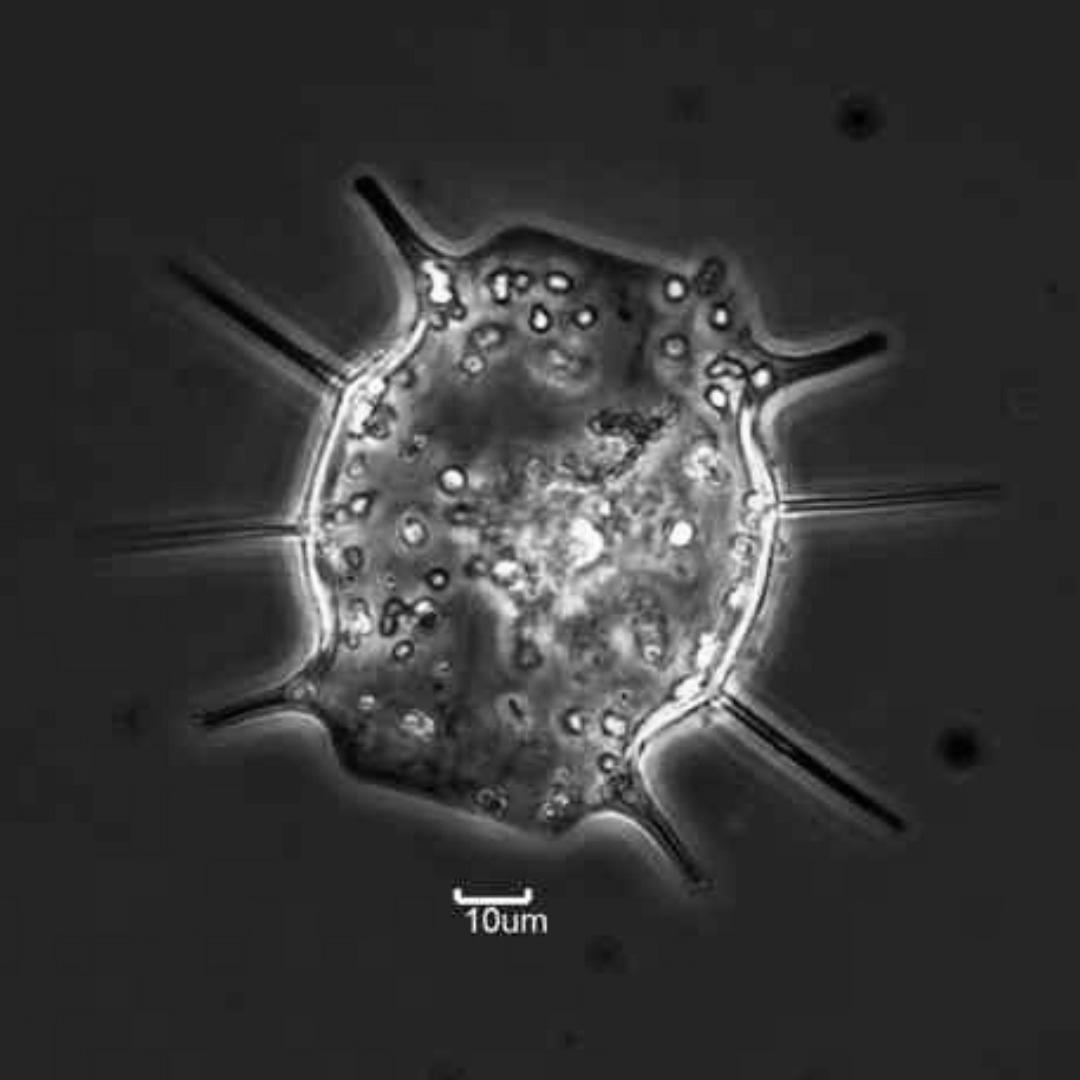odontella_mobiliensis: (92, 174, 1001, 886)
